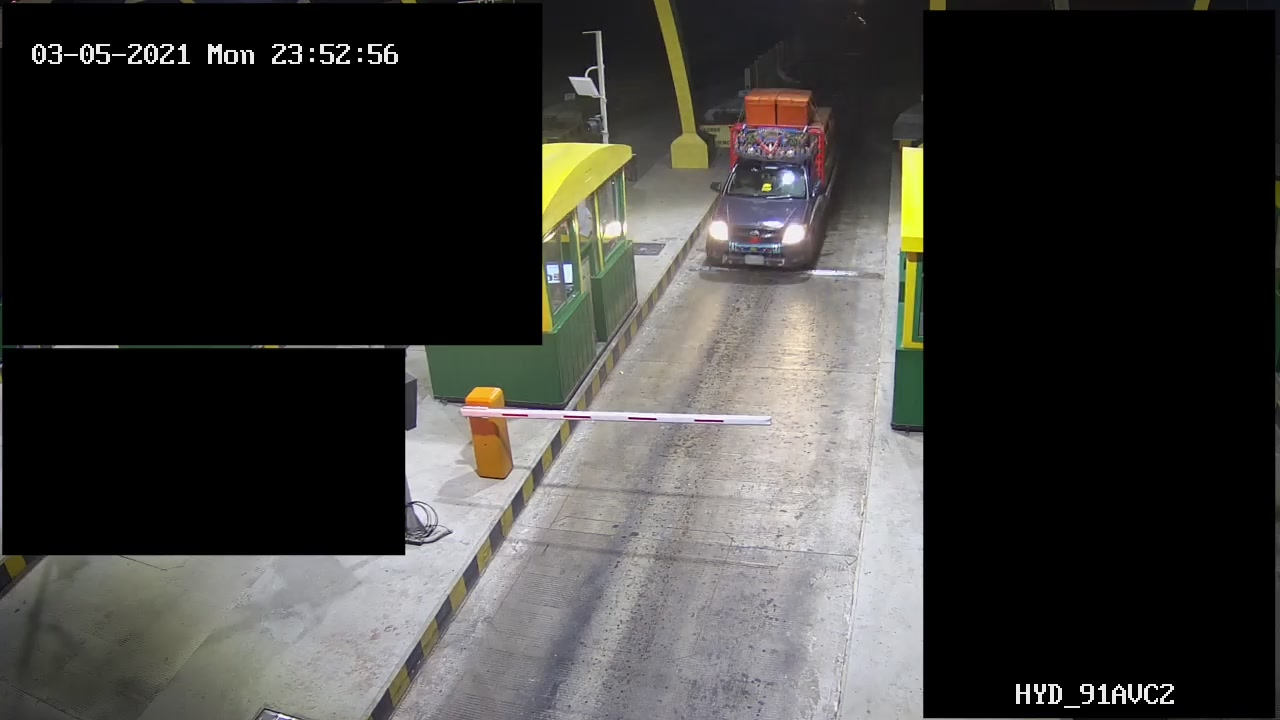F1: (701, 75, 844, 288)
